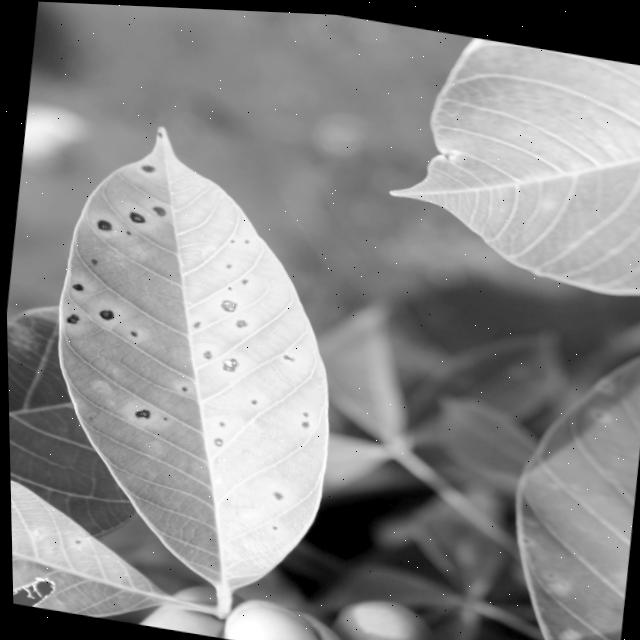Colletotrichum: (219, 355, 236, 370), (218, 297, 235, 311), (94, 218, 111, 231), (126, 209, 143, 222), (131, 406, 148, 418), (95, 308, 112, 320), (149, 204, 165, 216), (63, 312, 78, 324), (209, 435, 221, 444), (70, 282, 81, 291), (232, 317, 244, 325), (140, 163, 152, 170)
